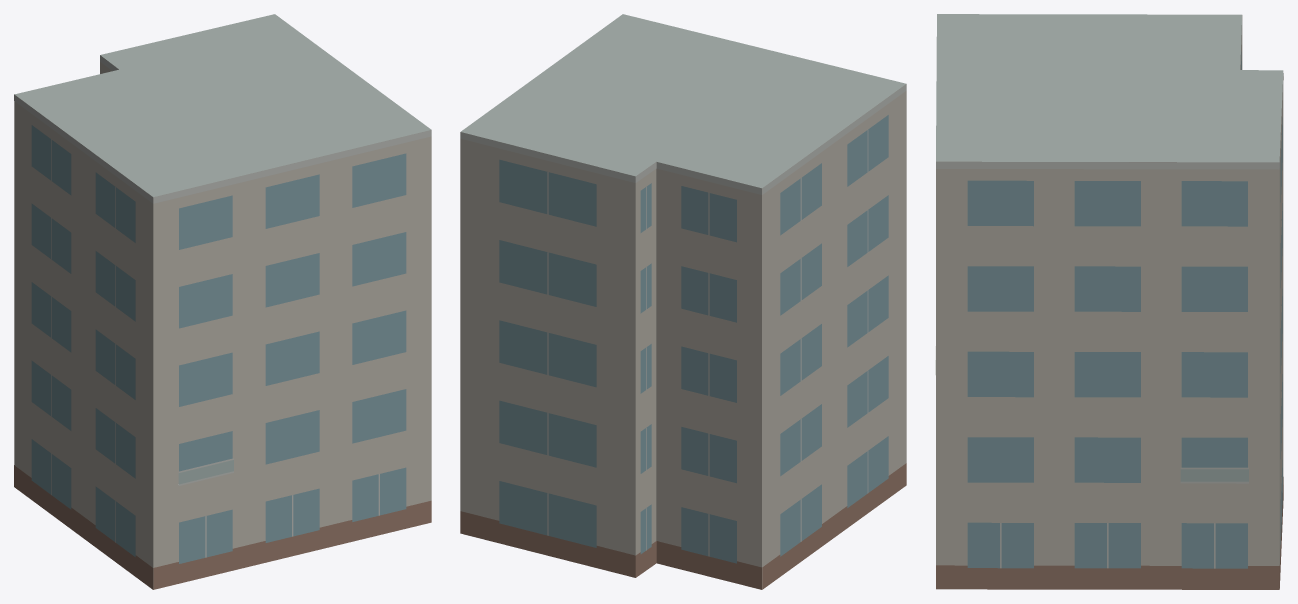
The model's file is survey-upis-32646548.glb.
3 renders of one model, left to right at view 1: azimuth 30°, elevation 25°; view 2: azimuth 150°, elevation 25°; view 3: azimuth 270°, elevation 25°, orthographic. The views are drawn at different scales.
Visible parts, largest first — view 1: survey-upis-32646548.tmp; view 2: survey-upis-32646548.tmp; view 3: survey-upis-32646548.tmp.
Part boxes in pixels (x1=…): survey-upis-32646548.tmp: x1=14, y1=14, x2=431, y2=589; survey-upis-32646548.tmp: x1=460, y1=14, x2=906, y2=589; survey-upis-32646548.tmp: x1=935, y1=14, x2=1283, y2=589.
Bounding box in the file's own units: 10.82 × 14.5 × 10.7.
